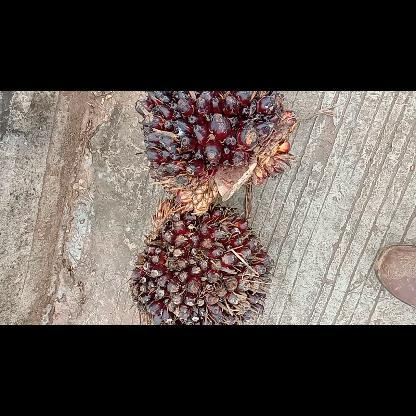TBS mentah: (130, 90, 302, 218), (128, 196, 278, 324)
